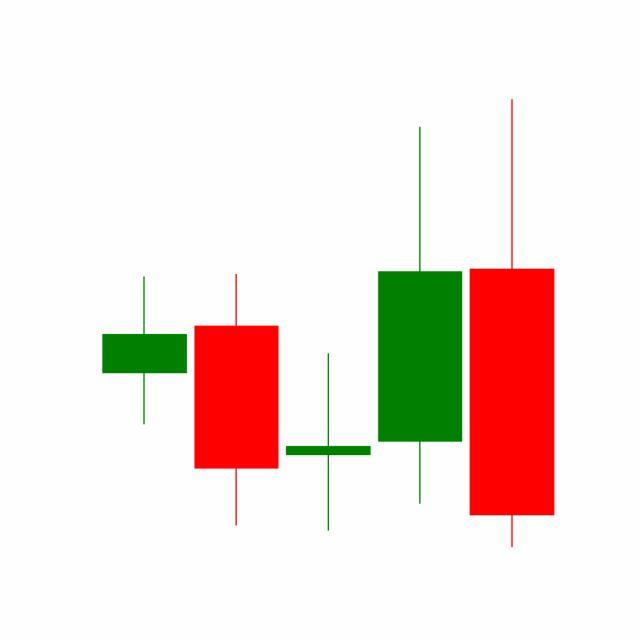Three Inside Up-Down: (190, 122, 467, 536)
